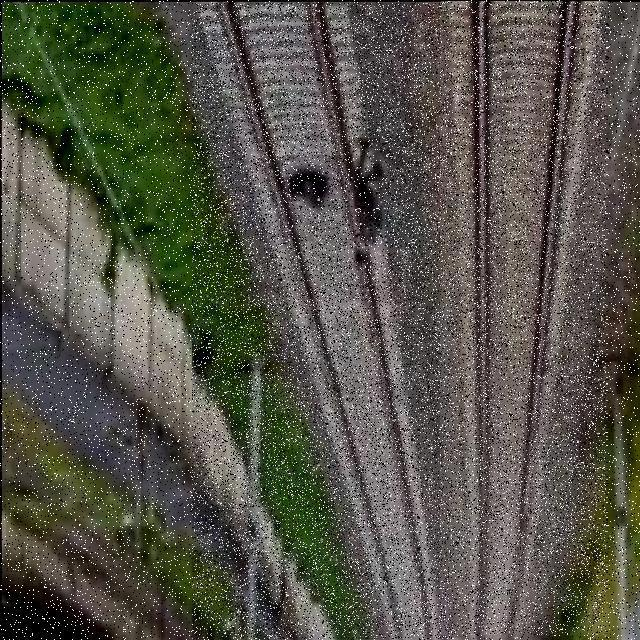rail: (193, 4, 454, 640), (441, 3, 608, 636)
